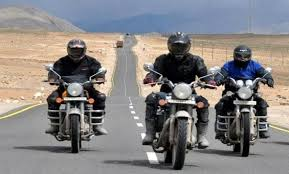with_helmet: (166, 31, 192, 58), (66, 38, 88, 61), (232, 44, 254, 67)
